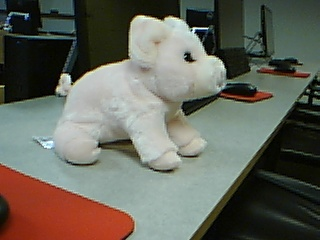piggy: (52, 14, 229, 173)
